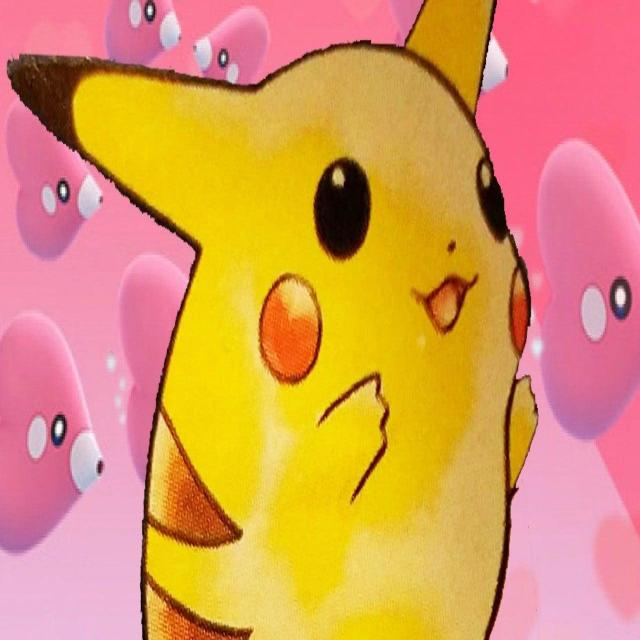pikachu: (7, 0, 538, 640)
